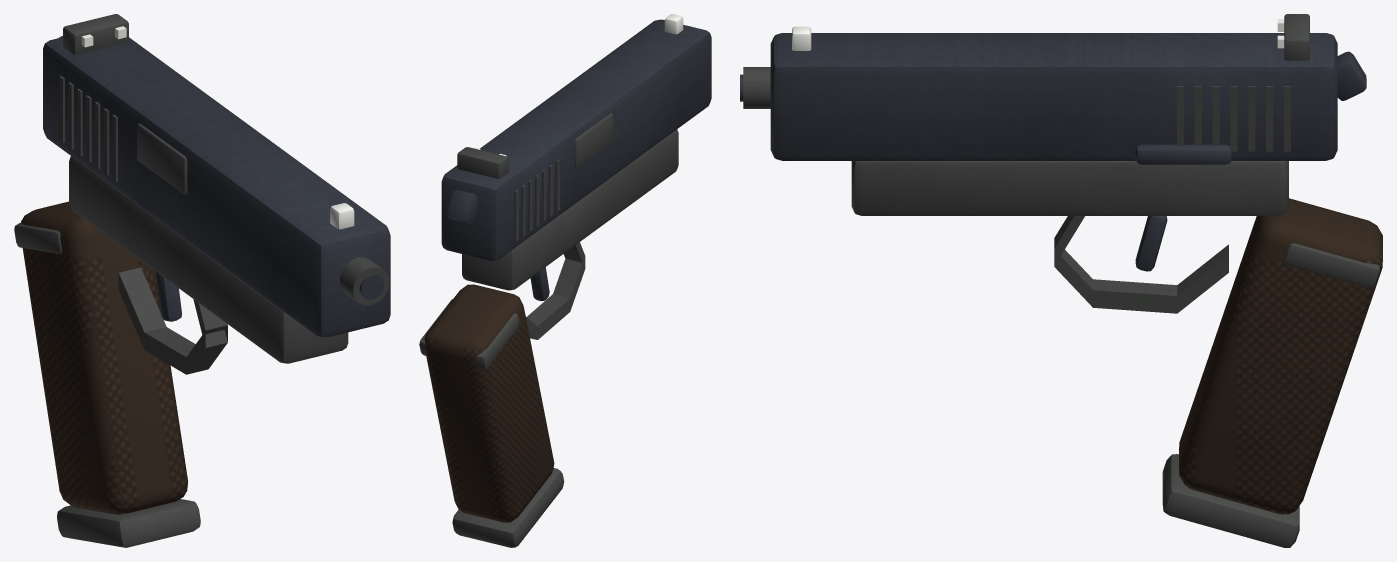
The picture shows the model from 3 angles, left to right: view 1: azimuth 30°, elevation 25°; view 2: azimuth 150°, elevation 25°; view 3: azimuth 270°, elevation 25°; orthographic projection. The views are drawn at different scales.
Visible parts, largest first — view 1: w_pp7; view 2: w_pp7; view 3: w_pp7.
Part boxes in pixels (left/top/right/bottom): w_pp7: left=14, top=14, right=390, bottom=547; w_pp7: left=419, top=14, right=711, bottom=547; w_pp7: left=740, top=14, right=1382, bottom=547.
Bounding box in the file's own units: 0.0325 × 0.1719 × 0.1985.
Materials: 4 (3 with a texture image).
